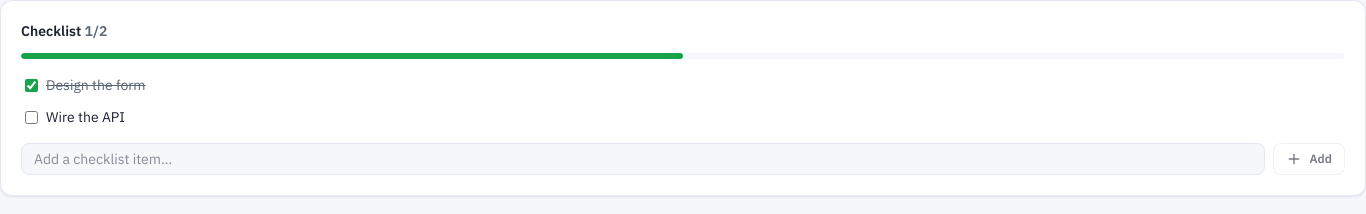
Test: checklist (P4-5) › shows items with progress and toggles done
The image size is (1366, 214).
Expected: the text "Design the form" is shown, [46,76,146,94]
Expected: the text "1/2" is shown, [84,22,107,40]
Click the checkbox named "Wire the API" at (32, 117), box [25,110,38,124]
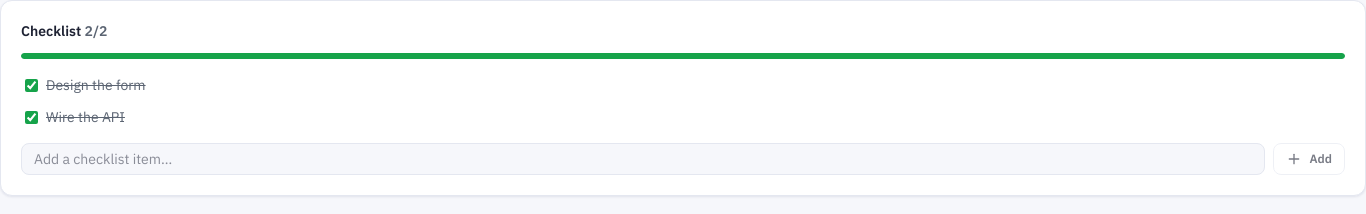
Expected: the text "2/2" is shown, [84,22,107,40]
